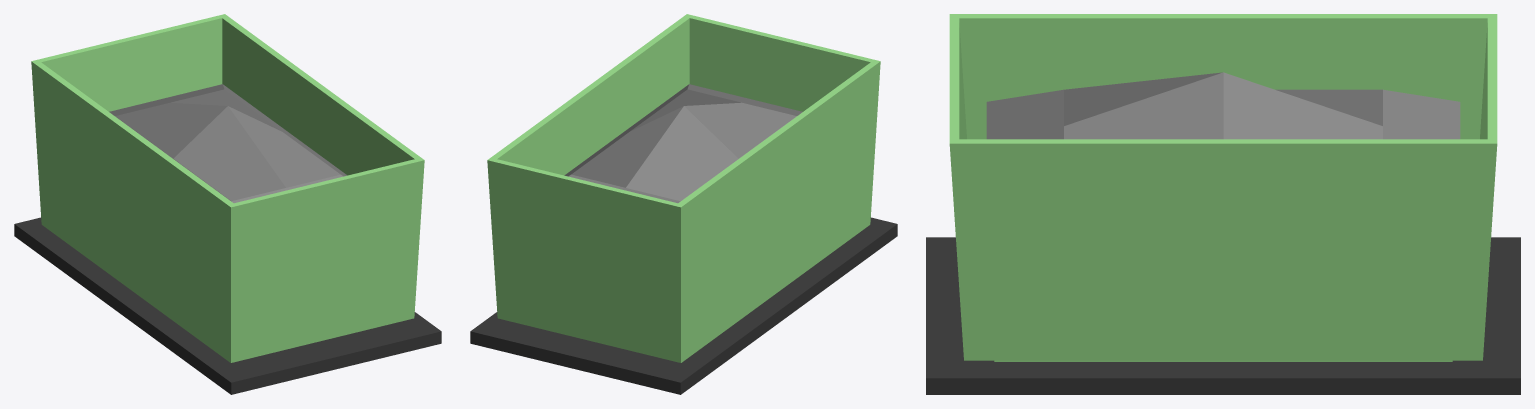
File: decor_3.glb
The picture shows the model from 3 angles, left to right: view 1: azimuth 30°, elevation 25°; view 2: azimuth 150°, elevation 25°; view 3: azimuth 270°, elevation 25°; orthographic projection. The views are drawn at different scales.
Visible parts, largest first — view 1: Cube; view 2: Cube; view 3: Cube.
Part boxes in pixels (left/top/right/bottom): Cube: left=14, top=14, right=441, bottom=394; Cube: left=470, top=14, right=897, bottom=394; Cube: left=926, top=14, right=1520, bottom=394.
Size of the model in its own units: 2.29 by 1.92 by 4.09.
